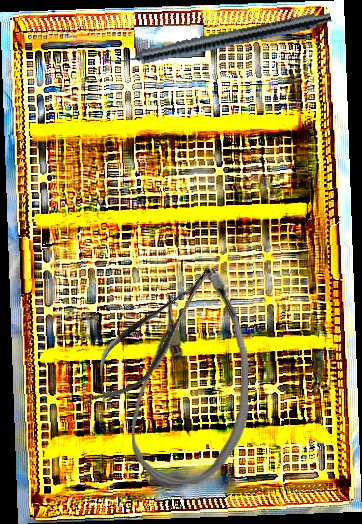Cannula: (129, 267, 250, 486)
Handpiece: (101, 5, 333, 74)
Micro Scissor: (73, 252, 233, 418)
